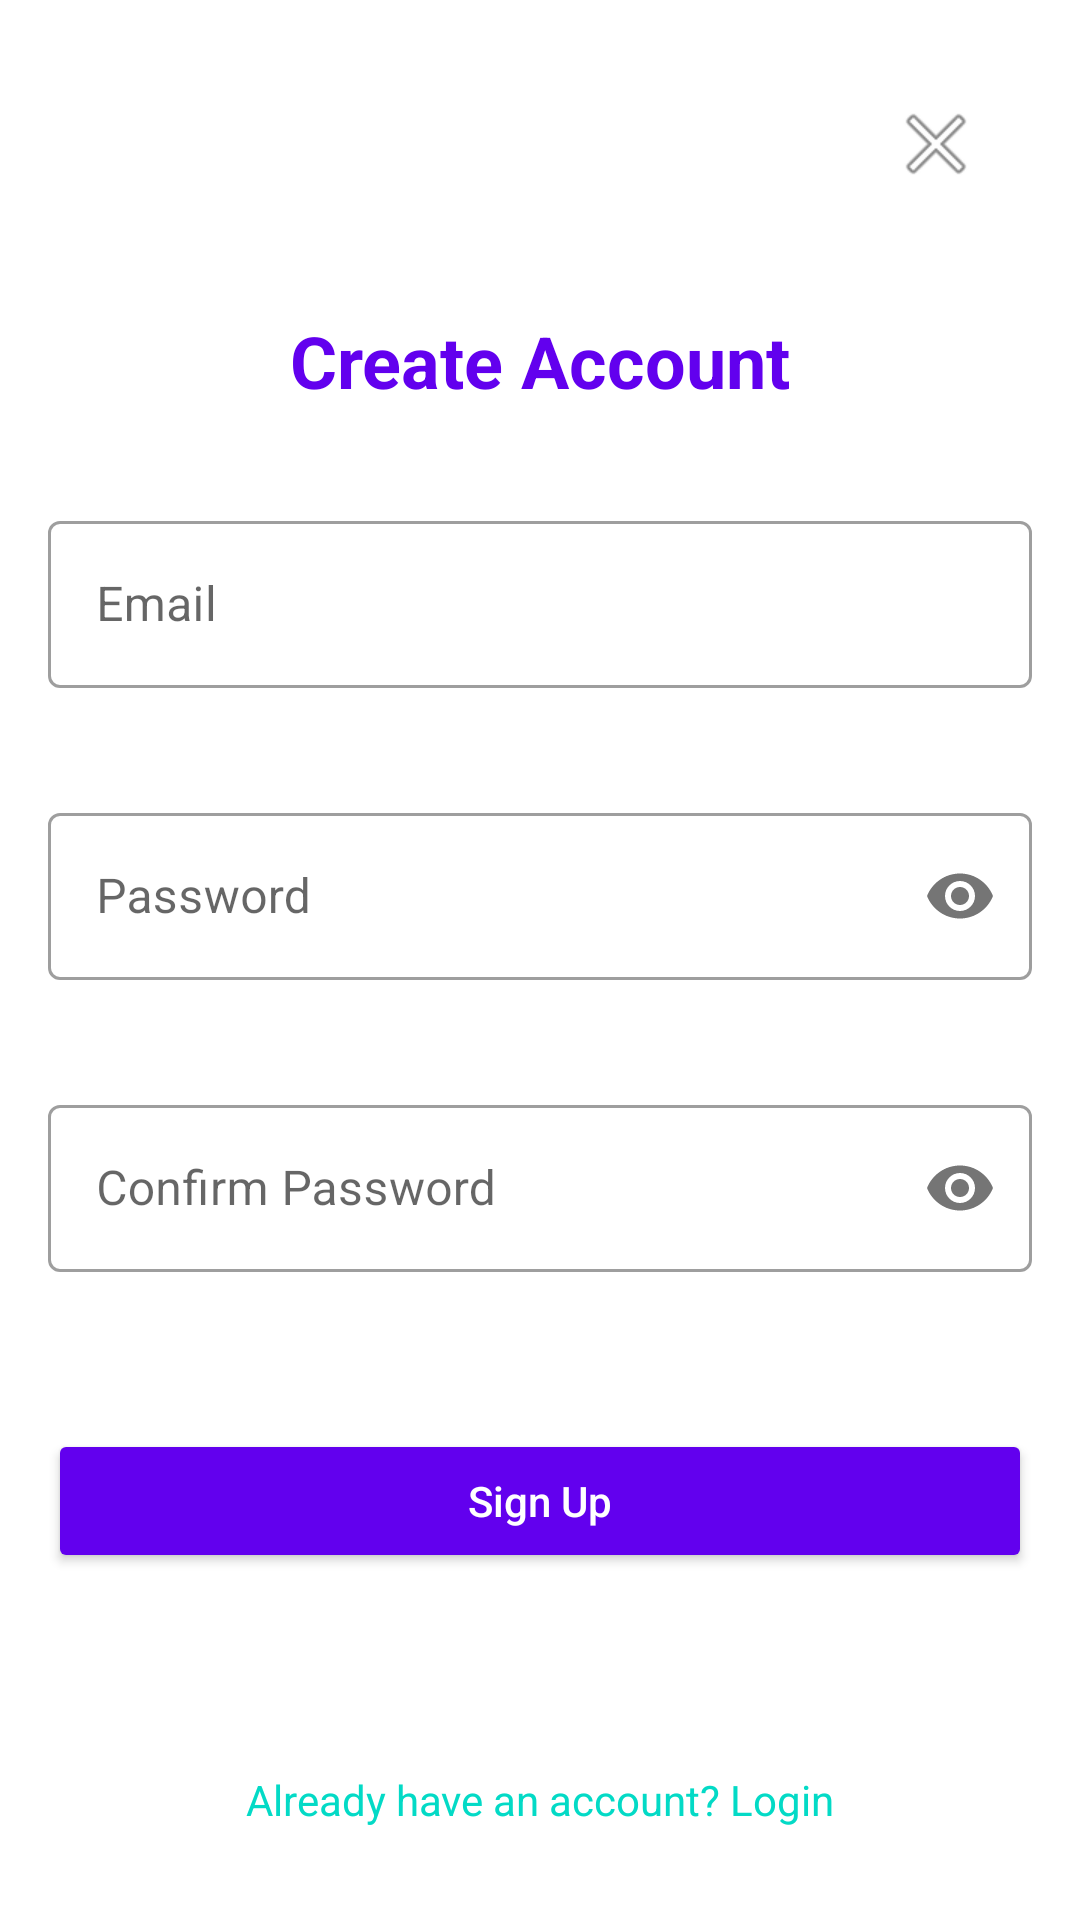

Icon bounding boxes for this 1080×1920 phone screenshot, format (x1, y1, x2, y2):
close clear cancel: (906, 114, 966, 174)
